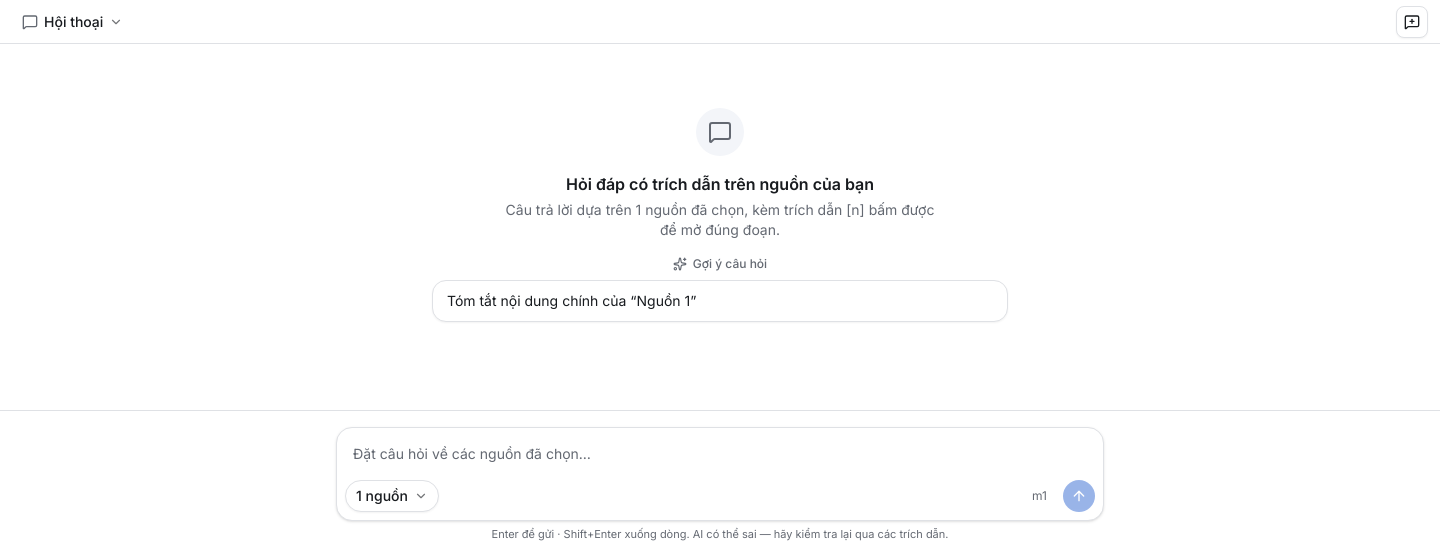
Test: ChatPanel: dấu lỗi gửi câu hỏi + Thử lại › lỗi HTTP trước khi lưu: dấu lỗi dưới đúng bong bóng, 'Thử lại' gửi lại đúng câu hỏi/phạm vi và chỉ còn MỘT tin người dùng
The image size is (1440, 558).
Check: the button with test id "scope-button" shows "1", box x1=345 y1=480 x2=439 y2=512
Type "Câu A?" into the text box with test id "chat-input" at (720, 456), box x1=345 y1=436 x2=1095 y2=476
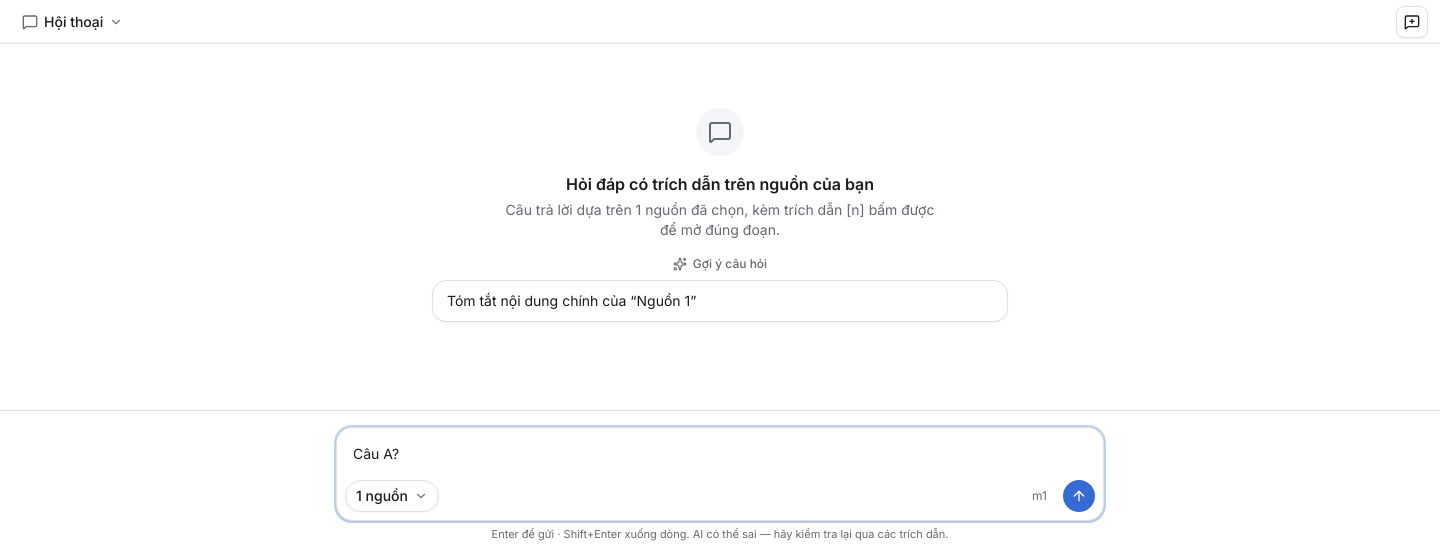
Click the button with test id "send-button" at (1079, 496), box x1=1063 y1=480 x2=1095 y2=512
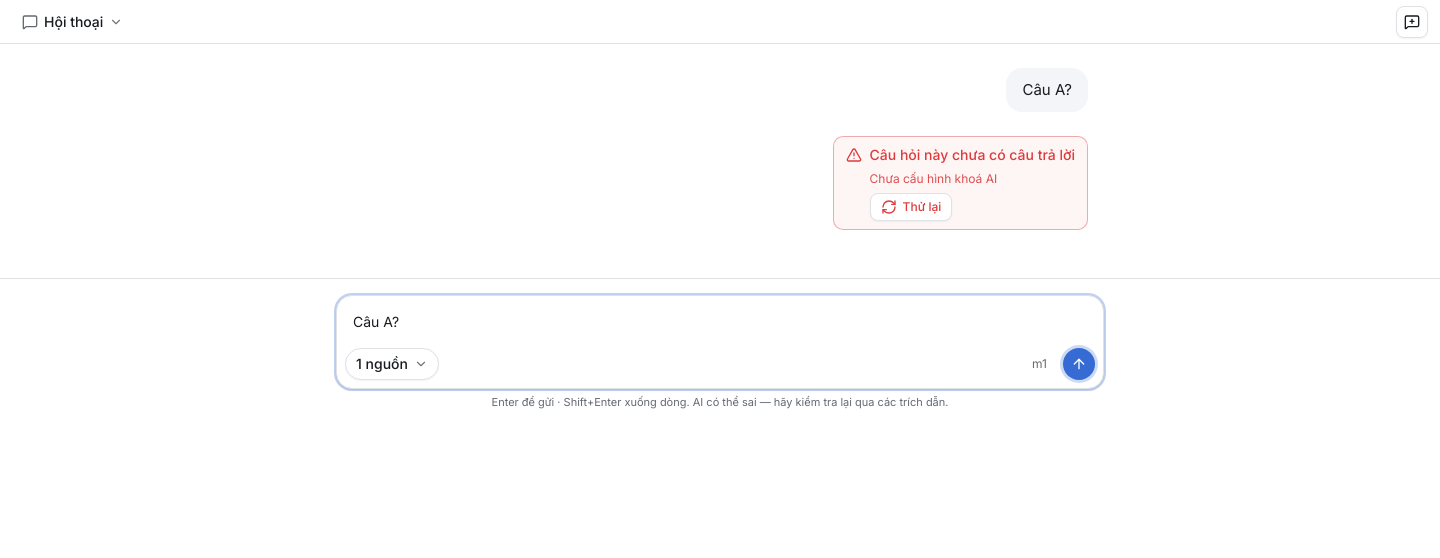
Check: the message with test id "chat-send-error" shows "Chưa cấu hình khoá AI", box x1=870 y1=171 x2=997 y2=186
Check: the number of elements with test id "user-message" is 1, box x1=1006 y1=68 x2=1088 y2=112
Check: the element with test id "user-message" reads "Câu A?", box x1=1022 y1=80 x2=1072 y2=99
Click the button with test id "chat-retry" at (911, 207), box x1=870 y1=193 x2=952 y2=221
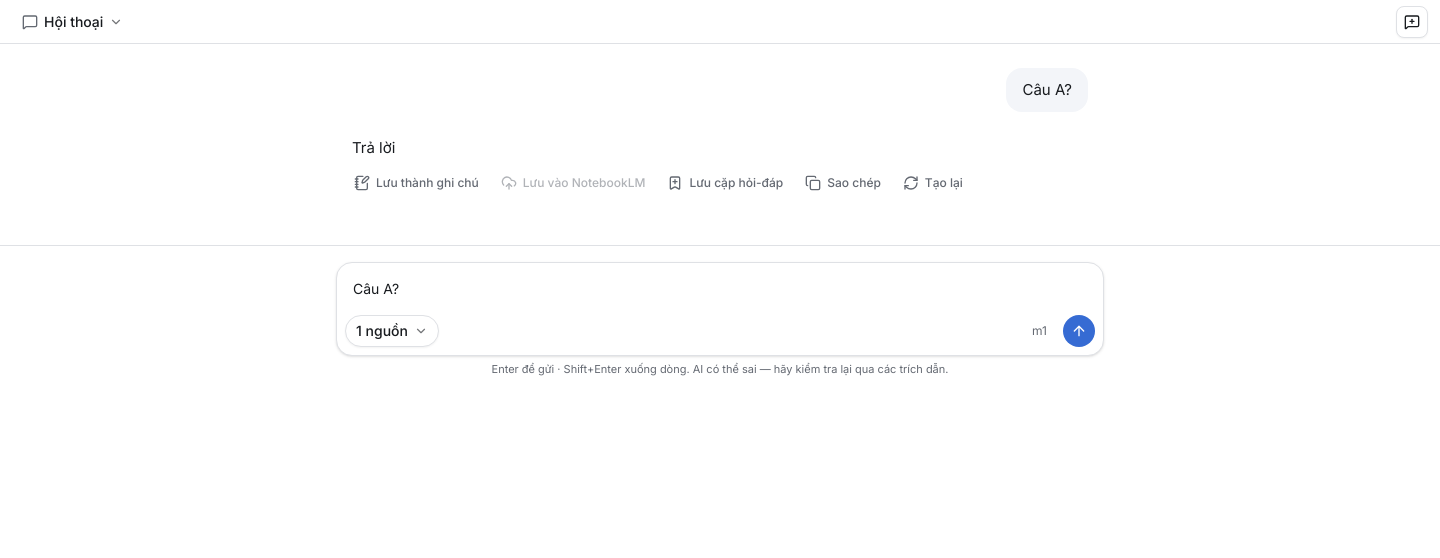
Check: the number of elements with test id "user-message" is 1, box x1=1006 y1=68 x2=1088 y2=112
Check: the element with test id "assistant-message" is shown, box x1=352 y1=136 x2=1088 y2=197
Check: the message with test id "chat-send-error" is gone
